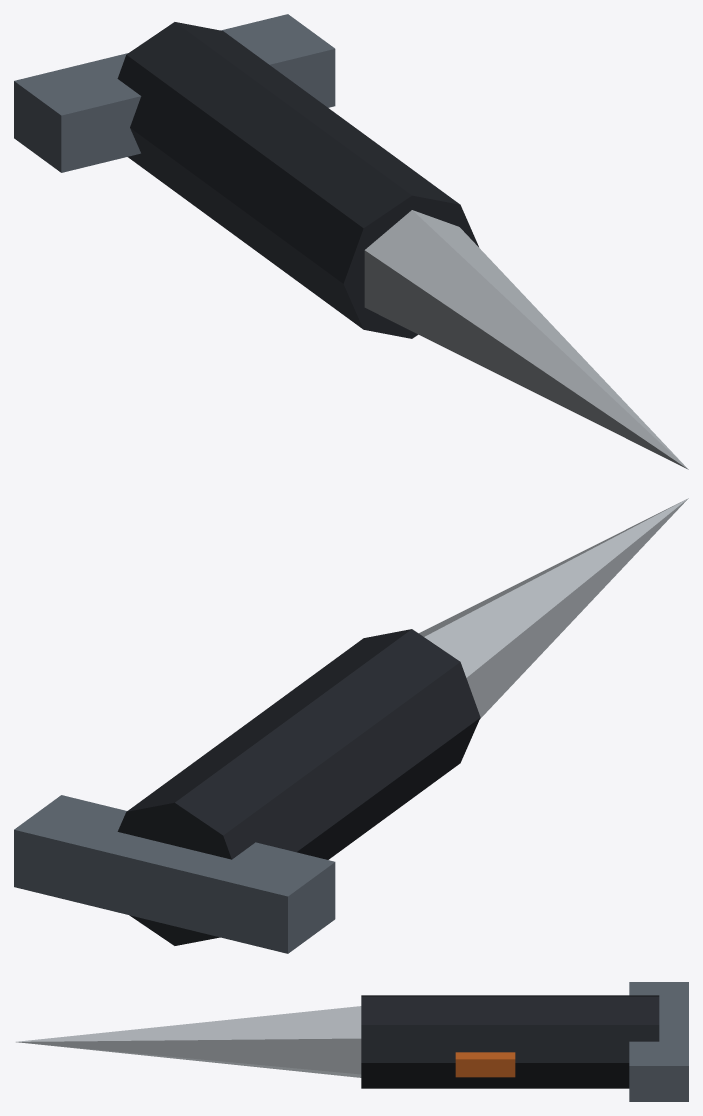
File: security-spike.glb
The picture shows the model from 3 angles, top to bottom: view 1: azimuth 30°, elevation 25°; view 2: azimuth 150°, elevation 25°; view 3: azimuth 270°, elevation 25°; orthographic projection. The views are drawn at different scales.
Visible parts, largest first — view 1: m; view 2: m; view 3: m.
Boxes of the visible parts, bbox=[...] form: m: bbox=[14, 14, 688, 469]; m: bbox=[14, 498, 688, 953]; m: bbox=[16, 982, 688, 1101].
Size of the model in its own units: 0.0382 by 0.0191 by 0.13.
